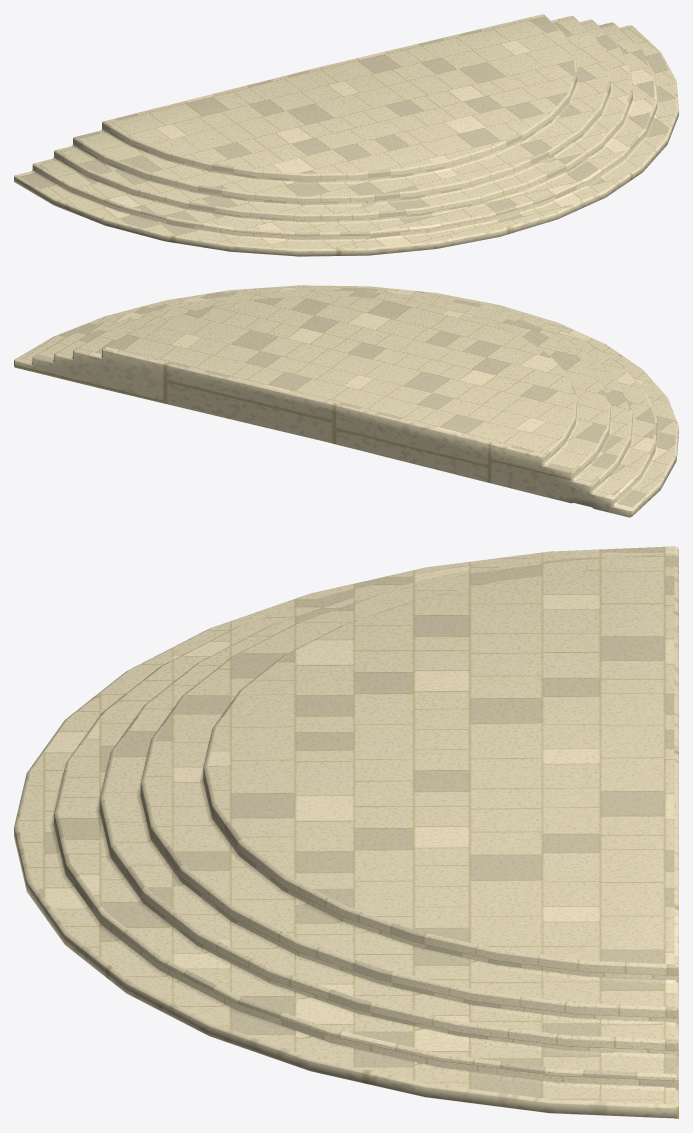
Rendered from Stair_Semi_Circle.gltf.
3 renders of one model, top to bottom at view 1: azimuth 30°, elevation 25°; view 2: azimuth 150°, elevation 25°; view 3: azimuth 270°, elevation 25°, orthographic. The views are drawn at different scales.
Visible parts, largest first — view 1: Circle; view 2: Circle; view 3: Circle.
Part boxes in pixels (x1,y1,x2,y2): Circle: (14, 14, 678, 256); Circle: (14, 285, 678, 517); Circle: (14, 546, 678, 1118).
Size of the model in its own units: 34.93 by 2.23 by 17.48.
1 material, 1 textured.
